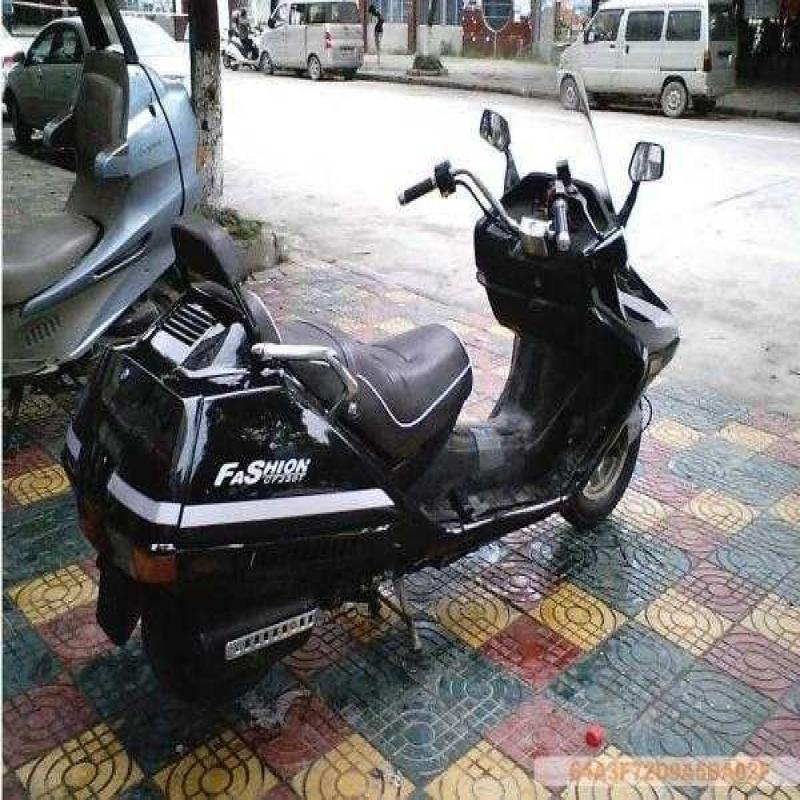bike: (60, 152, 684, 672)
